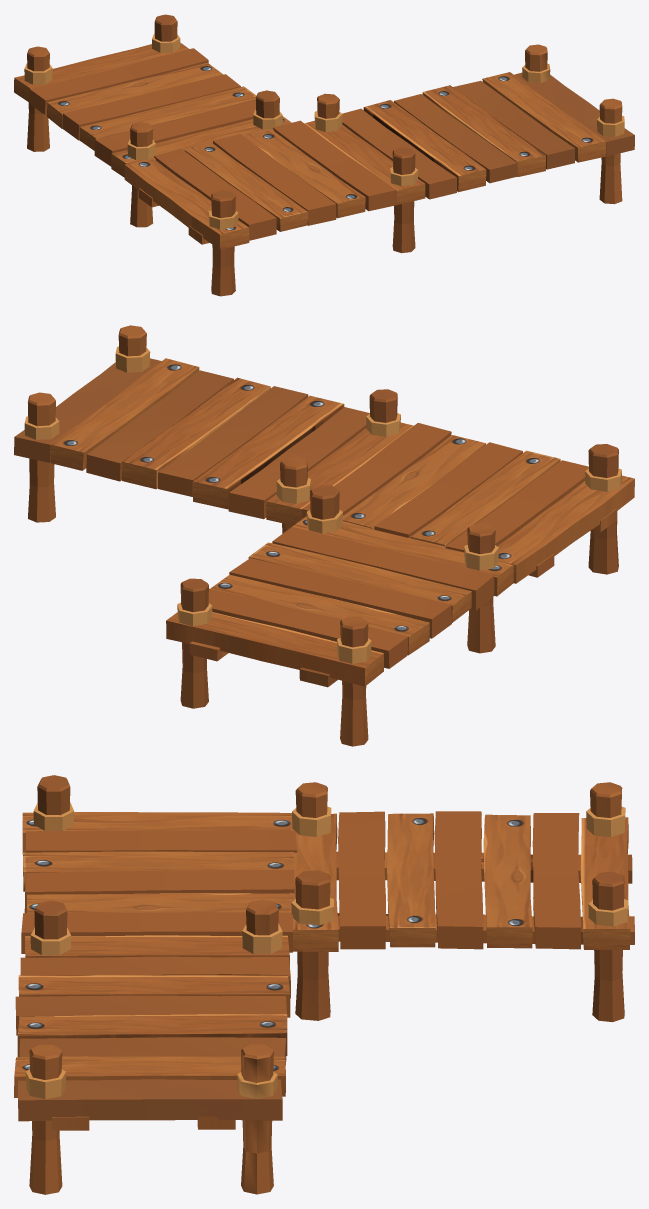
Rendered from Dock01.fbx.
3 renders of one model, top to bottom at view 1: azimuth 30°, elevation 25°; view 2: azimuth 150°, elevation 25°; view 3: azimuth 270°, elevation 25°, orthographic. The views are drawn at different scales.
Visible parts, largest first — view 1: Dock01; view 2: Dock01; view 3: Dock01.
Part boxes in pixels (x1,y1,x2,y2): Dock01: [14, 14, 634, 296]; Dock01: [14, 325, 634, 746]; Dock01: [14, 775, 634, 1194].
Bounding box in the file's own units: 9.69 × 2.15 × 8.8.
